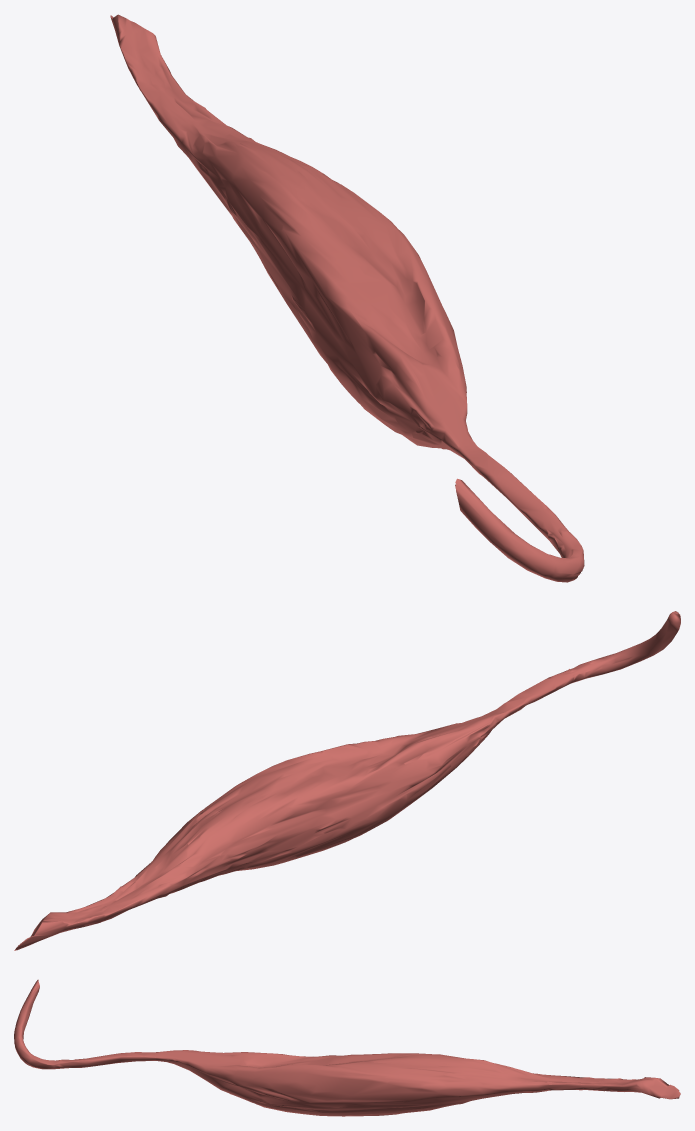
3 renders of one model, top to bottom at view 1: azimuth 30°, elevation 25°; view 2: azimuth 150°, elevation 25°; view 3: azimuth 270°, elevation 25°, orthographic. The views are drawn at different scales.
Parts seen in each view (by area): view 1: 左侧肱二头肌长头; view 2: 左侧肱二头肌长头; view 3: 左侧肱二头肌长头.
Part boxes in pixels (bbox=[...]): 左侧肱二头肌长头: bbox=[110, 14, 584, 582]; 左侧肱二头肌长头: bbox=[14, 611, 680, 950]; 左侧肱二头肌长头: bbox=[14, 979, 680, 1116].
Size of the model in its own units: 0.1403 by 0.0732 by 0.5262.
